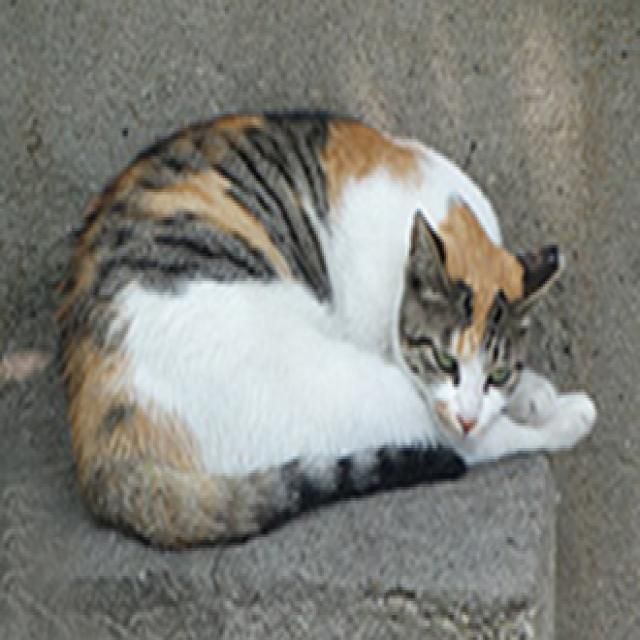cat: (18, 41, 626, 532)
